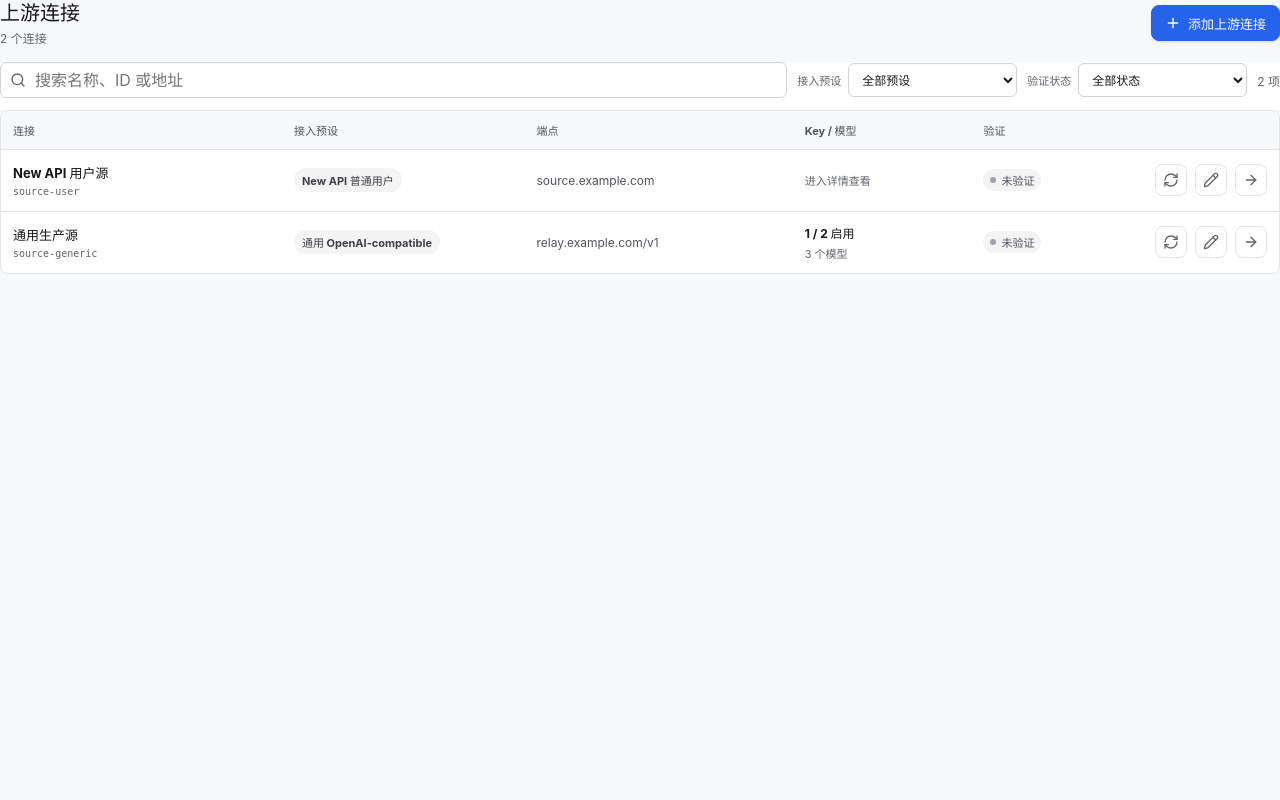
Test: Upstream connections workspace › labels New API credentials as ordinary-user tokens and runs non-destructive validation
This screenshot has width=1280, height=800.
Click the button "添加上游连接" at (1216, 23), box [1151,5,1279,41]
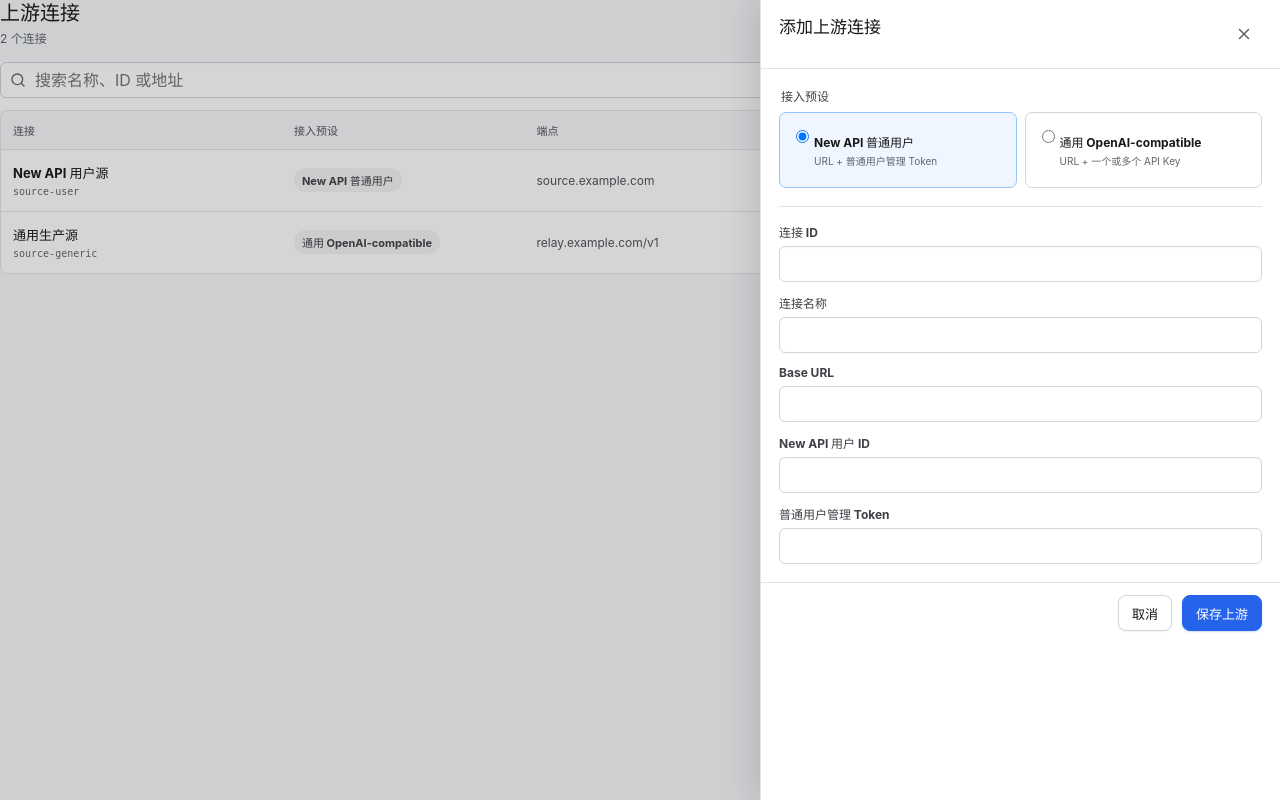
Expected: the radio button labelled "New API 普通用户" is checked, [796,130,809,143]
Click the button named "关闭添加上游连接" at (1244, 34), box [1226,16,1262,52]
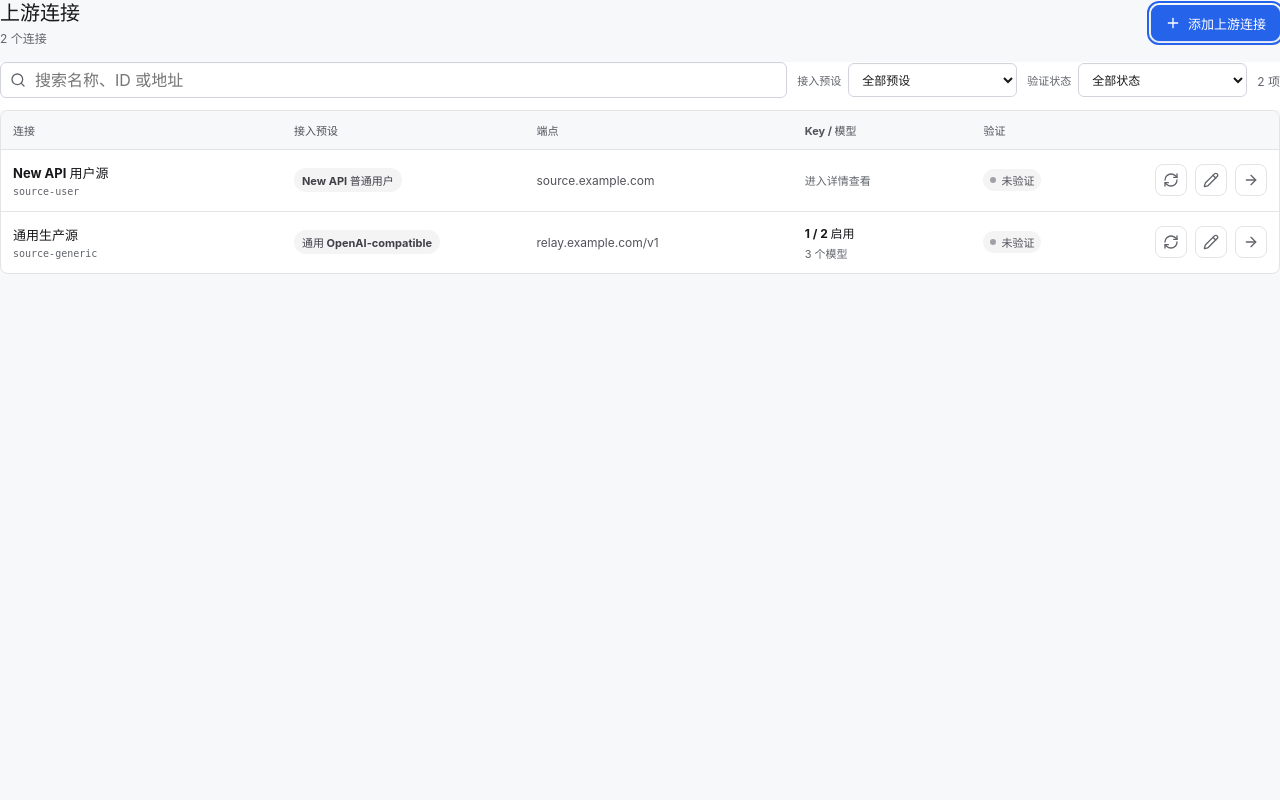
Click the button named "验证 New API 用户源 连接" at (1171, 180), box [1155,164,1187,196]
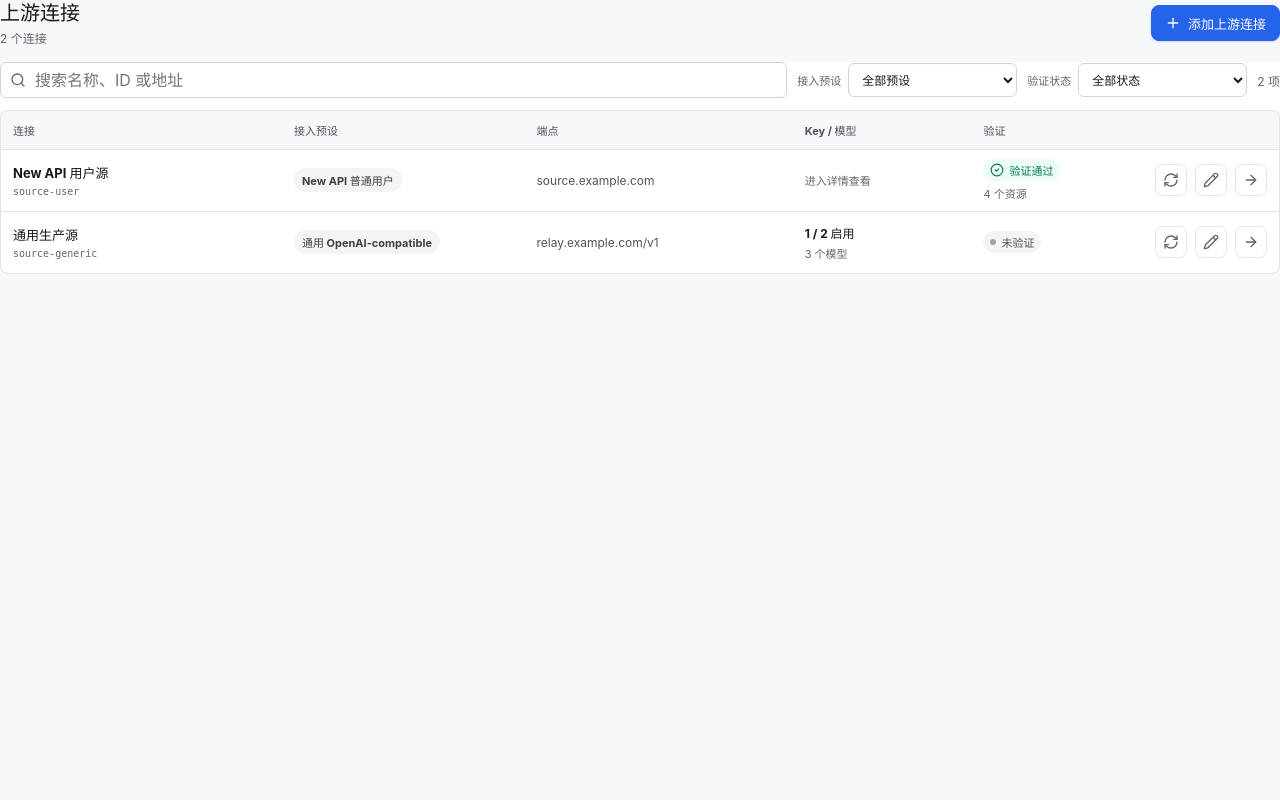
Expected: the text "验证通过" is shown, [983,159,1060,181]
Expected: the text "4 个资源" is shown, [983,187,1027,201]
